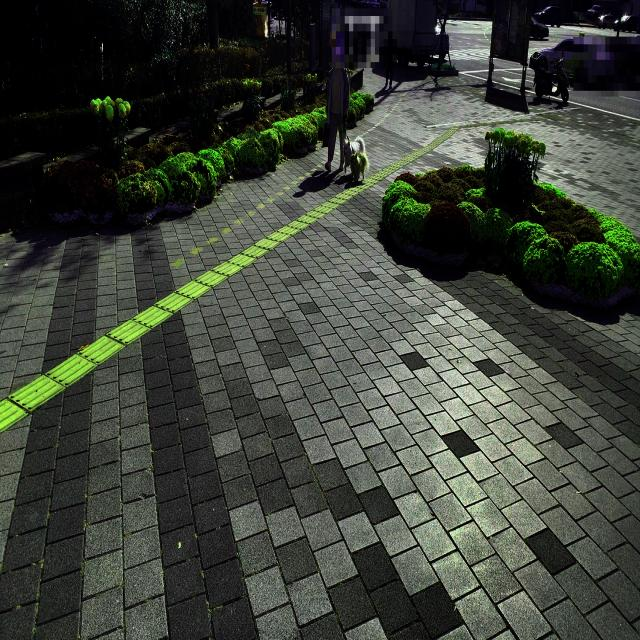Leashed_Dog: (338, 112, 368, 186)
